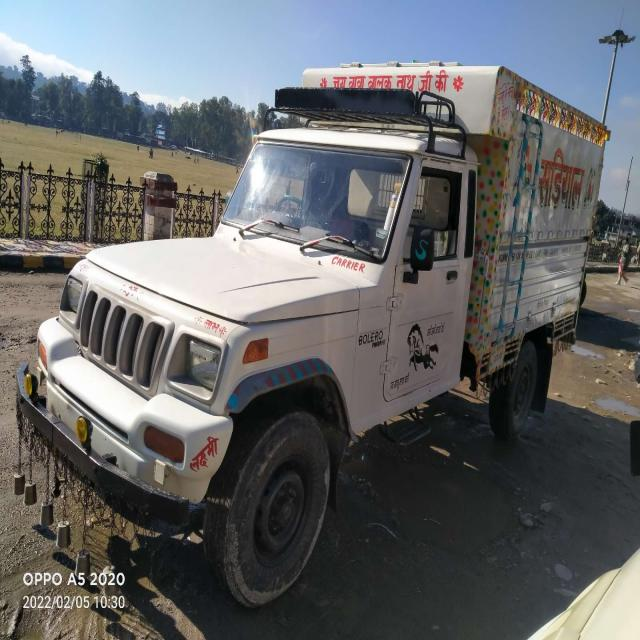light_vehicle: (22, 85, 608, 526)
